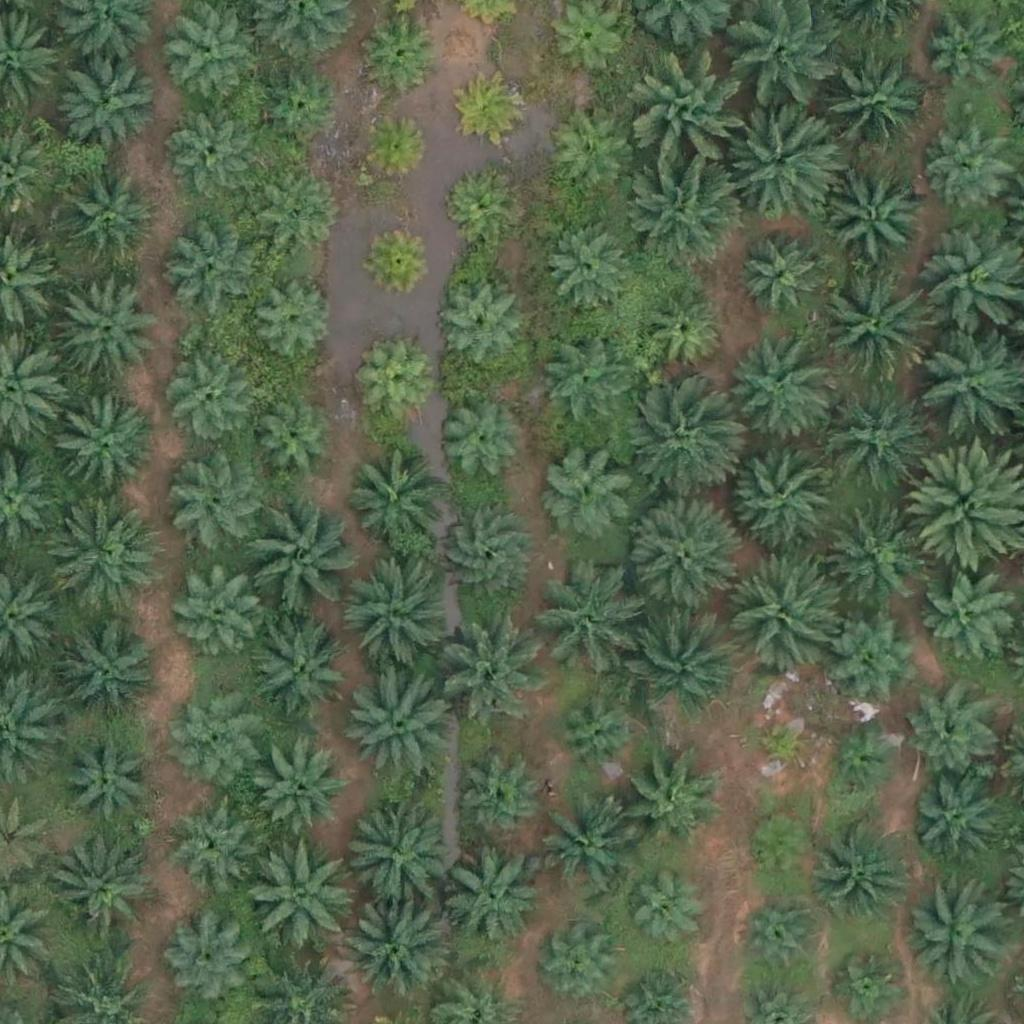Kelapa_Sawit: (337, 665, 450, 779), (814, 51, 927, 165), (815, 270, 928, 383), (819, 382, 932, 495), (726, 437, 839, 550), (623, 498, 736, 611), (342, 892, 455, 1005), (334, 796, 447, 909), (46, 395, 159, 508), (47, 504, 160, 617), (630, 155, 743, 268), (623, 600, 735, 714), (340, 561, 452, 675), (242, 838, 354, 952), (636, 59, 748, 173), (719, 338, 831, 451), (724, 555, 836, 668), (621, 389, 733, 502), (434, 606, 546, 719), (238, 500, 350, 613), (726, 102, 838, 215), (823, 503, 923, 604), (825, 604, 925, 705), (617, 752, 717, 853), (531, 801, 631, 902), (531, 573, 631, 674), (441, 849, 541, 950), (344, 449, 444, 550), (247, 617, 347, 718), (168, 454, 268, 555), (57, 274, 157, 375), (51, 847, 151, 948), (826, 167, 926, 268), (58, 49, 158, 150), (57, 166, 157, 267), (164, 218, 264, 319), (816, 818, 916, 919), (908, 883, 1008, 983), (538, 439, 638, 539), (436, 507, 536, 607), (58, 622, 157, 723), (905, 691, 993, 779), (638, 288, 726, 376), (552, 690, 640, 778), (433, 281, 521, 369), (259, 750, 347, 838), (161, 918, 249, 1006), (159, 353, 247, 441), (255, 61, 343, 149), (255, 179, 343, 267), (738, 233, 826, 321), (546, 112, 634, 200), (165, 17, 253, 105), (166, 109, 254, 197), (908, 778, 995, 867), (538, 338, 625, 427), (923, 571, 1010, 659), (740, 893, 827, 981), (435, 397, 522, 485), (457, 759, 544, 847), (251, 277, 338, 365), (248, 401, 335, 489), (162, 796, 249, 884), (171, 684, 258, 772), (174, 569, 261, 657), (65, 735, 152, 823), (924, 22, 1011, 110), (929, 127, 1016, 215), (545, 221, 632, 309), (440, 167, 515, 243), (623, 876, 698, 952), (824, 724, 899, 800), (743, 811, 818, 887), (357, 347, 432, 423), (362, 220, 437, 296), (455, 71, 530, 147), (365, 13, 440, 88), (831, 946, 906, 1021), (543, 931, 618, 1006), (357, 110, 432, 185), (750, 712, 812, 775)
